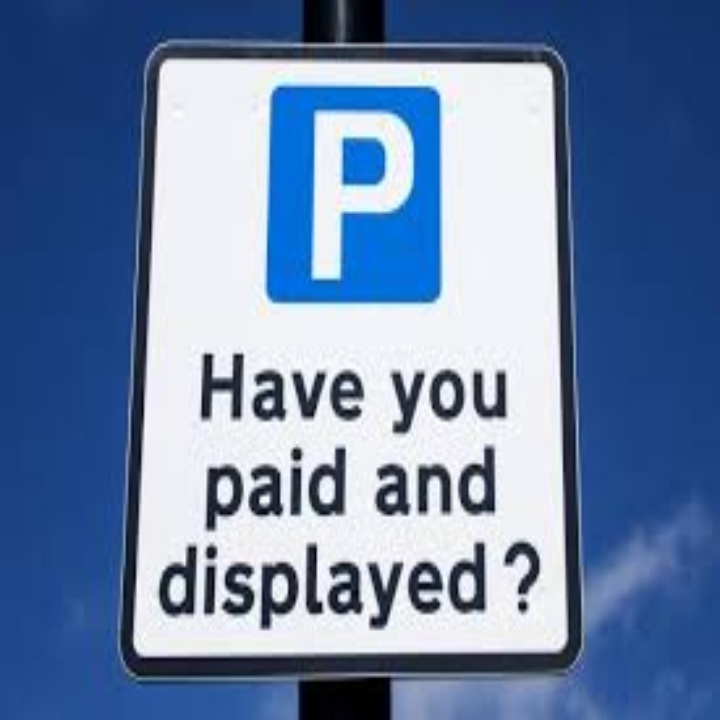parking: (307, 103, 421, 290)
